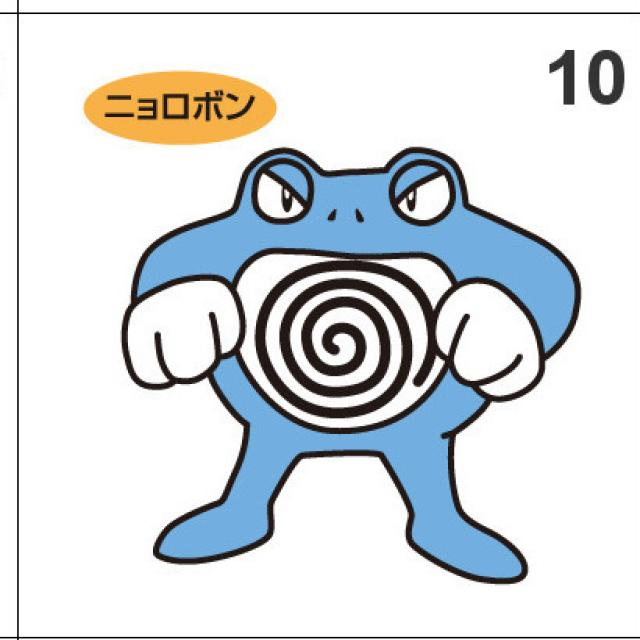Poliwrath: (165, 149, 530, 530)
